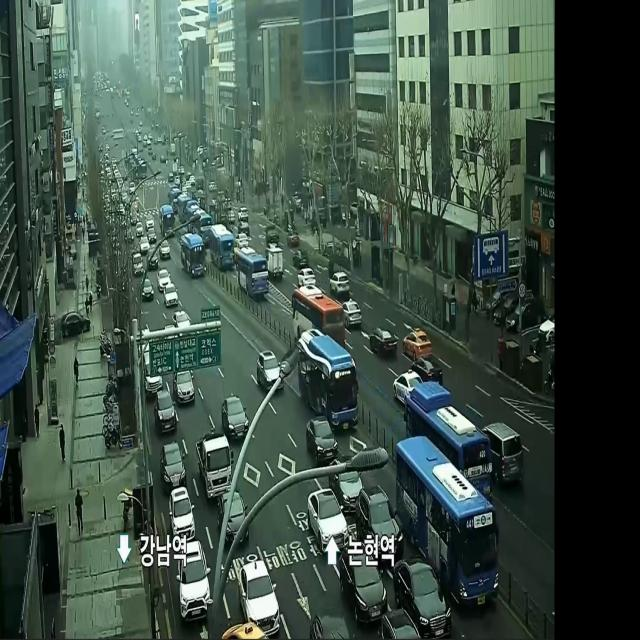car: (396, 430, 499, 610), (408, 384, 492, 507), (297, 325, 359, 433), (290, 282, 345, 357), (237, 244, 268, 300), (180, 230, 208, 280), (210, 220, 236, 271), (159, 200, 176, 241)
motorcycle: (394, 560, 450, 638), (237, 554, 280, 636), (482, 420, 524, 488), (158, 440, 187, 492), (169, 483, 195, 537), (154, 387, 178, 438), (222, 395, 248, 440), (402, 322, 431, 360), (369, 322, 397, 360), (173, 370, 195, 408), (343, 294, 362, 331), (330, 268, 350, 300), (161, 278, 179, 310), (296, 264, 316, 287)
truck: (195, 429, 232, 498), (264, 240, 284, 284)
